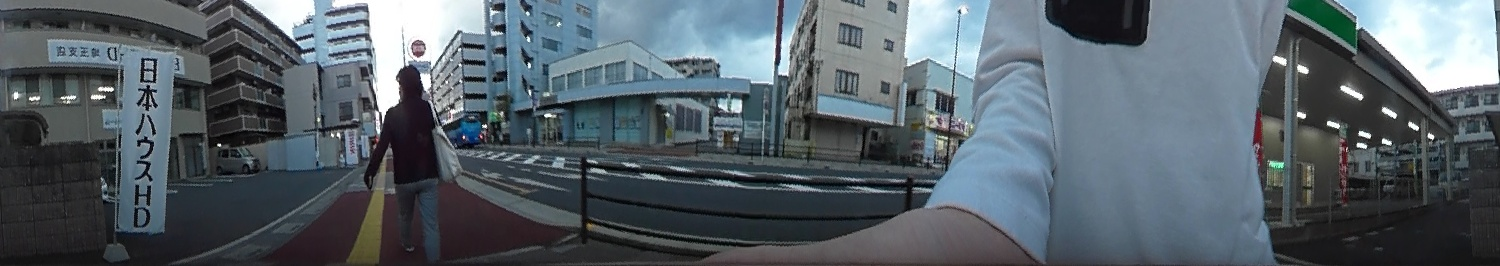person: (360, 55, 459, 260)
